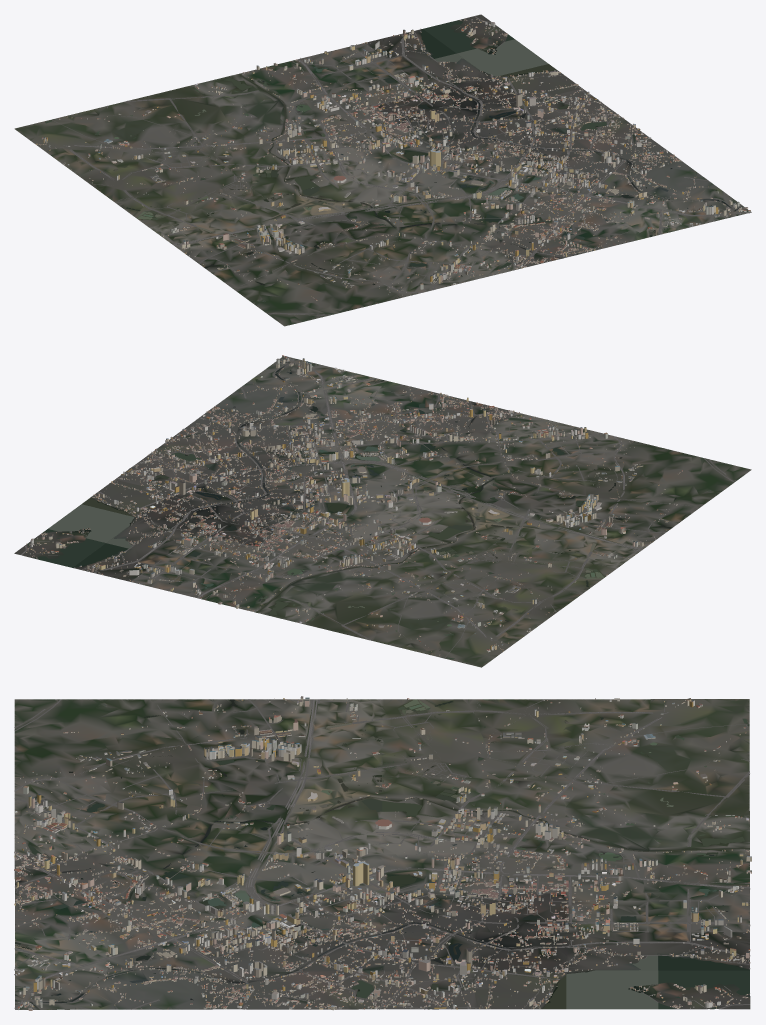
3 views of the same model, one above another, from view 1: azimuth 30°, elevation 25°; view 2: azimuth 150°, elevation 25°; view 3: azimuth 270°, elevation 25° (orthographic). The views are drawn at different scales.
Parts seen in each view (by area): view 1: ground, buildings, roads, water; view 2: ground, buildings, roads, water; view 3: ground, buildings, roads, water.
Boxes of the visible parts, bbox=[...] form: ground: bbox=[14, 14, 751, 326]; buildings: bbox=[36, 18, 750, 300]; roads: bbox=[35, 16, 751, 315]; water: bbox=[45, 19, 737, 301]; ground: bbox=[14, 357, 751, 667]; buildings: bbox=[26, 355, 682, 655]; roads: bbox=[20, 356, 736, 658]; water: bbox=[27, 359, 711, 659]; ground: bbox=[14, 699, 750, 1009]; buildings: bbox=[14, 696, 751, 1010]; roads: bbox=[14, 699, 750, 1009]; water: bbox=[15, 699, 749, 1009].
Bounding box in the file's own units: 11249 × 340 × 11259.
